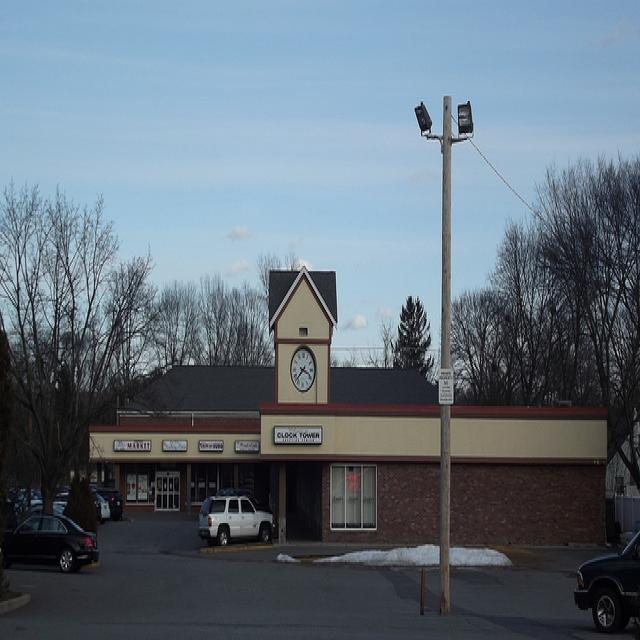Vehicle: (573, 527, 637, 633), (0, 514, 99, 573), (198, 496, 274, 548), (198, 496, 274, 545), (14, 489, 44, 518), (96, 489, 122, 518), (90, 488, 110, 524), (53, 485, 71, 515)
